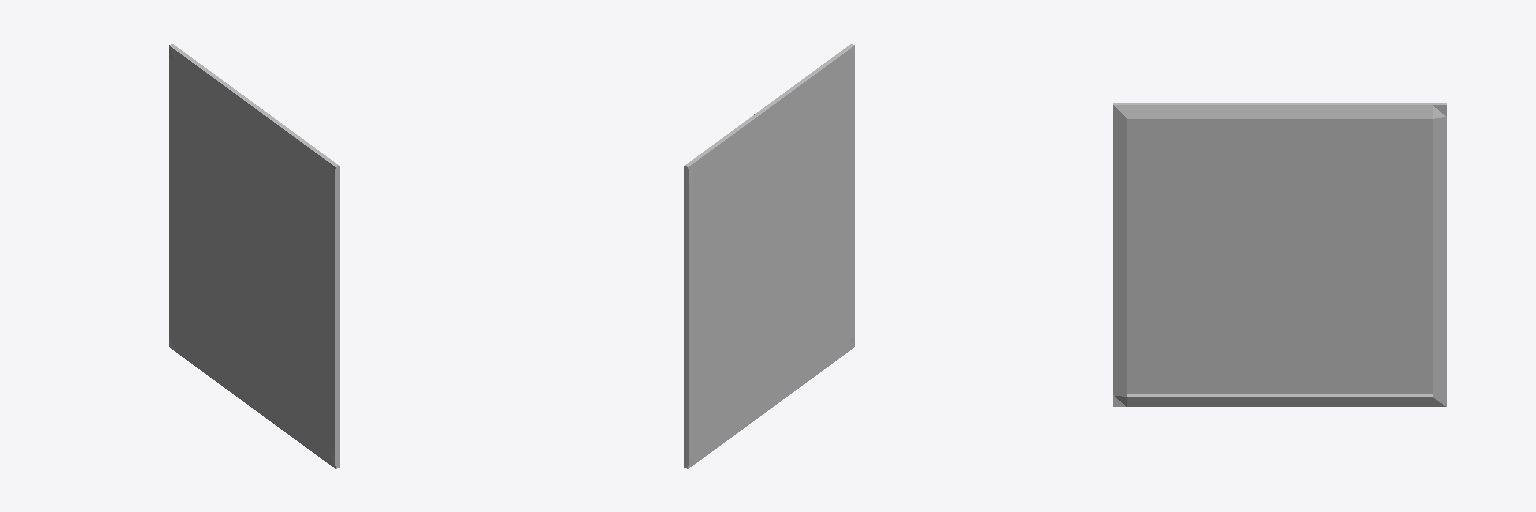
Rendered from cuadro.obj.
3 renders of one model, left to right at view 1: azimuth 30°, elevation 25°; view 2: azimuth 150°, elevation 25°; view 3: azimuth 270°, elevation 25°, orthographic.
Visible parts, largest first — view 1: polySurface77 polySurface24; view 2: polySurface77 polySurface24; view 3: polySurface77 polySurface24.
Part boxes in pixels (x1,y1,x2,y2): polySurface77 polySurface24: (169, 44, 339, 468); polySurface77 polySurface24: (684, 44, 854, 468); polySurface77 polySurface24: (1113, 103, 1446, 406).
Bounding box in the file's own units: 0.024 × 0.8601 × 0.8601.